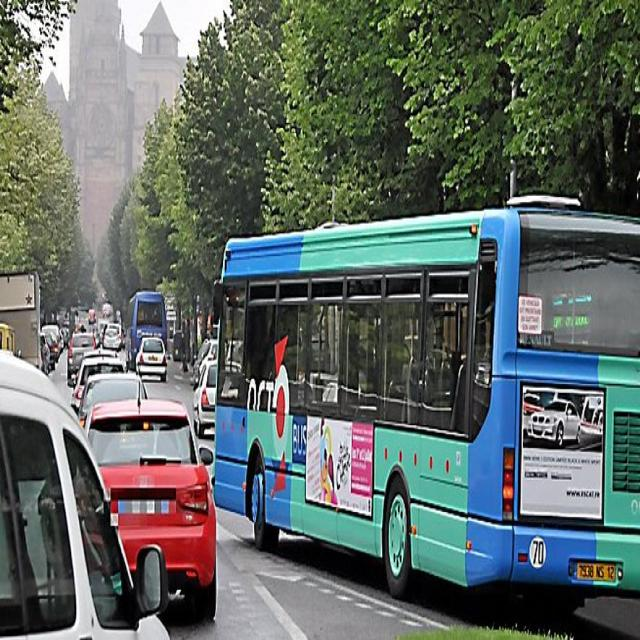Bus: (215, 198, 640, 604)
Car: (85, 399, 217, 620)
